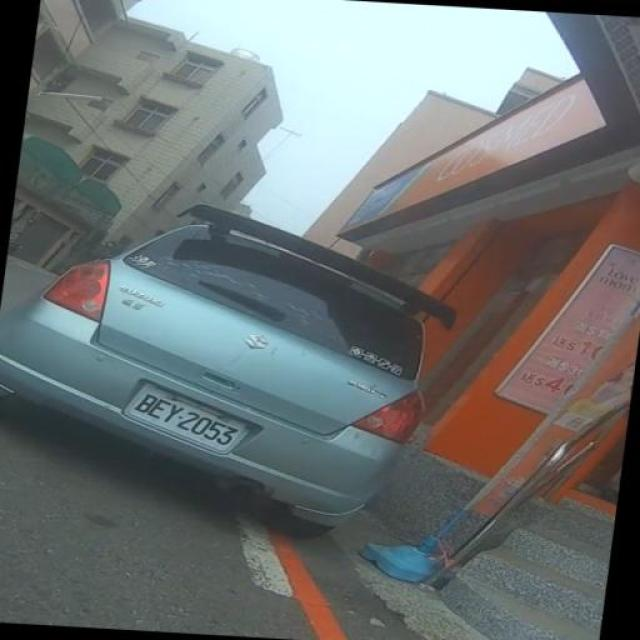Legalparking: (8, 159, 442, 550)
